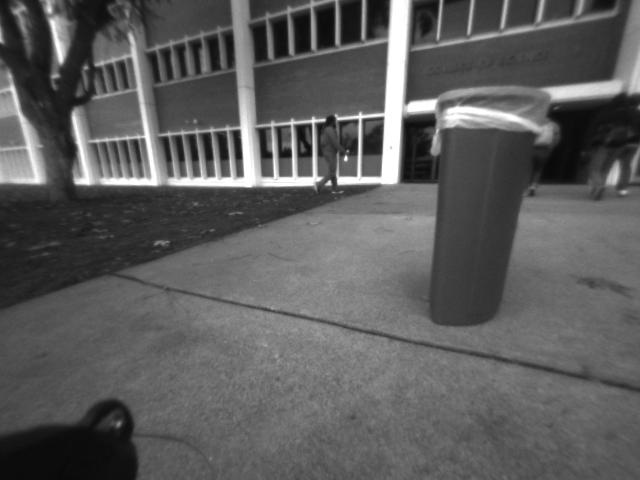trashcan: (420, 79, 566, 338)
